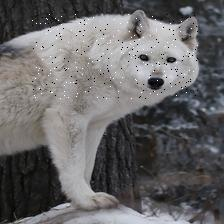WOLF: (32, 14, 198, 99)
